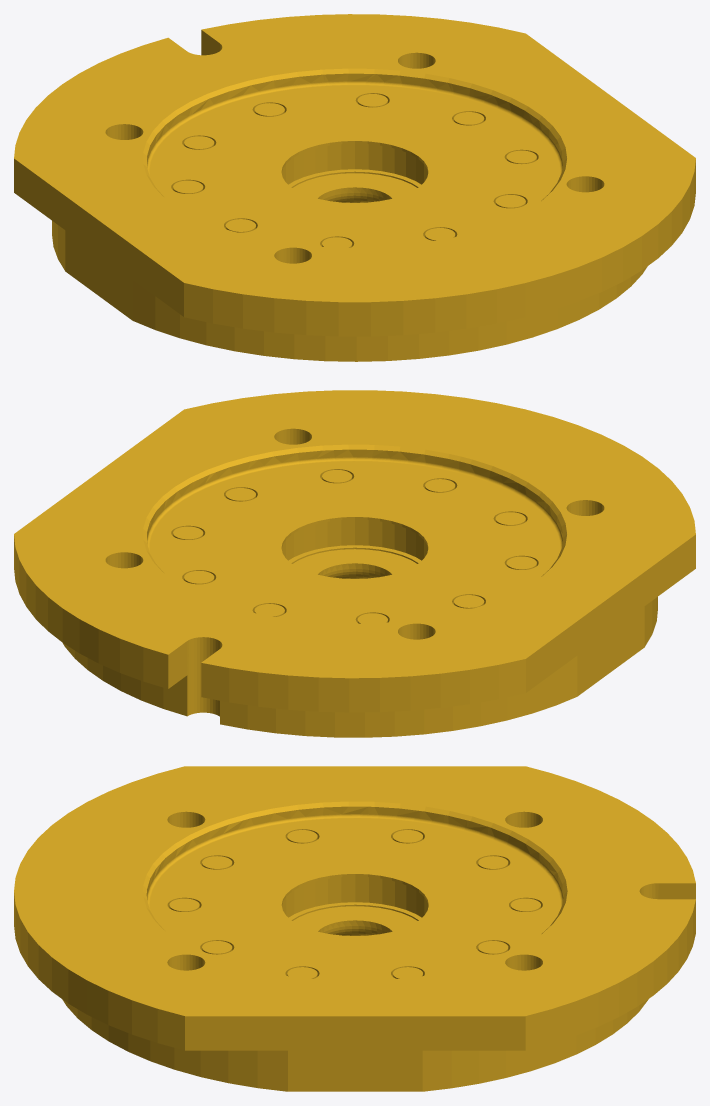
The picture shows the model from 3 angles, top to bottom: view 1: azimuth 30°, elevation 25°; view 2: azimuth 150°, elevation 25°; view 3: azimuth 270°, elevation 25°; orthographic projection.
Visible parts, largest first — view 1: Link_T; view 2: Link_T; view 3: Link_T.
Part boxes in pixels (x1=…): Link_T: x1=14, y1=14, x2=695, y2=361; Link_T: x1=14, y1=390, x2=695, y2=737; Link_T: x1=14, y1=766, x2=695, y2=1091.
Size of the model in its own units: 0.078 by 0.0899 by 0.011.
1 material, 1 textured.
